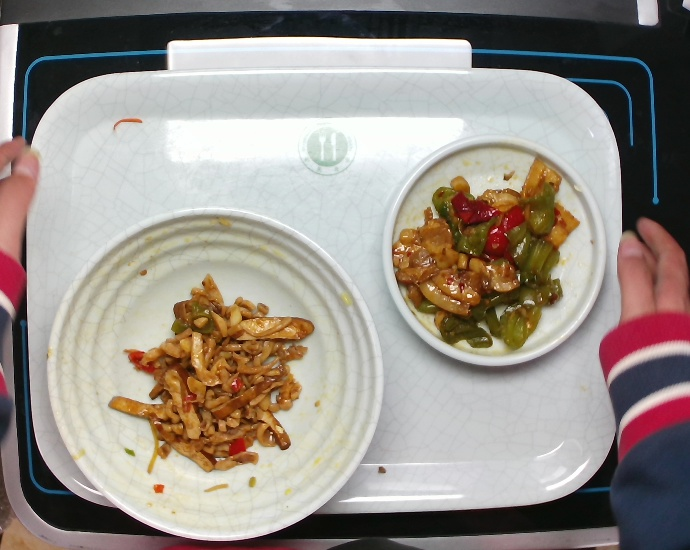JYsf-Da_Tang_Wan: (41, 201, 391, 543)
JYsf-Xiao_Yuan_Pan: (367, 130, 611, 374)
